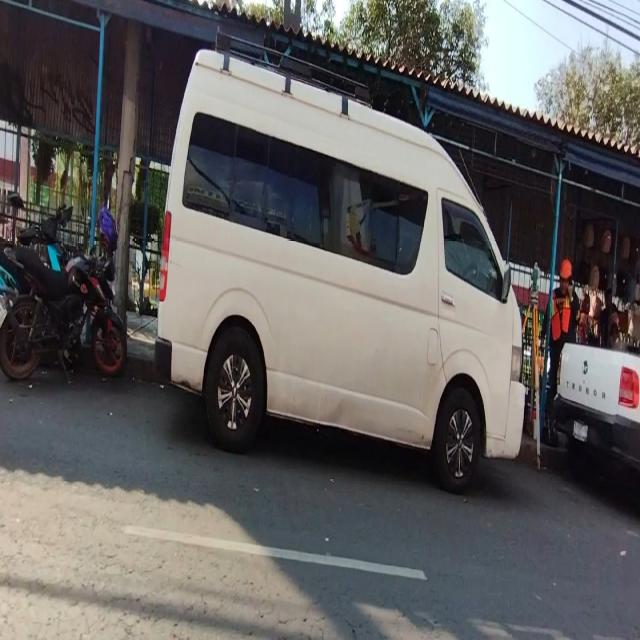adult: (542, 258, 579, 394)
